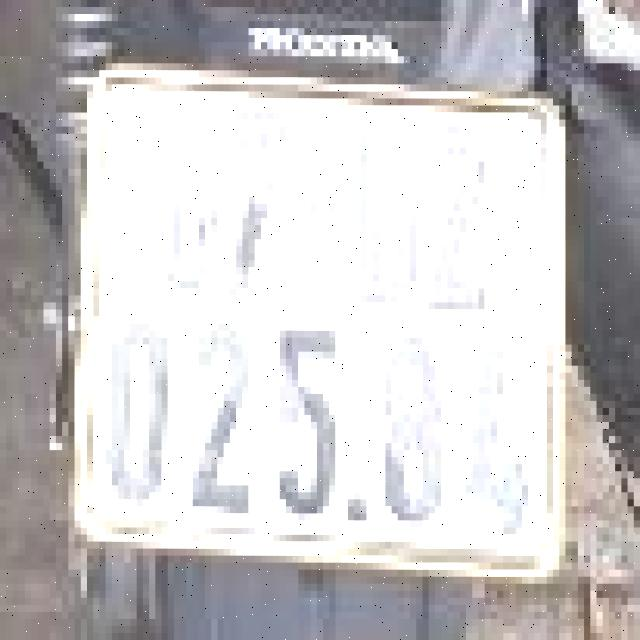0: (93, 299, 174, 517)
2: (193, 313, 261, 517)
4: (457, 323, 531, 534)
5: (261, 306, 348, 531)
6: (140, 98, 227, 310), (429, 120, 503, 323)
7: (220, 95, 302, 306)
8: (382, 320, 457, 531)
D: (342, 102, 428, 313)
